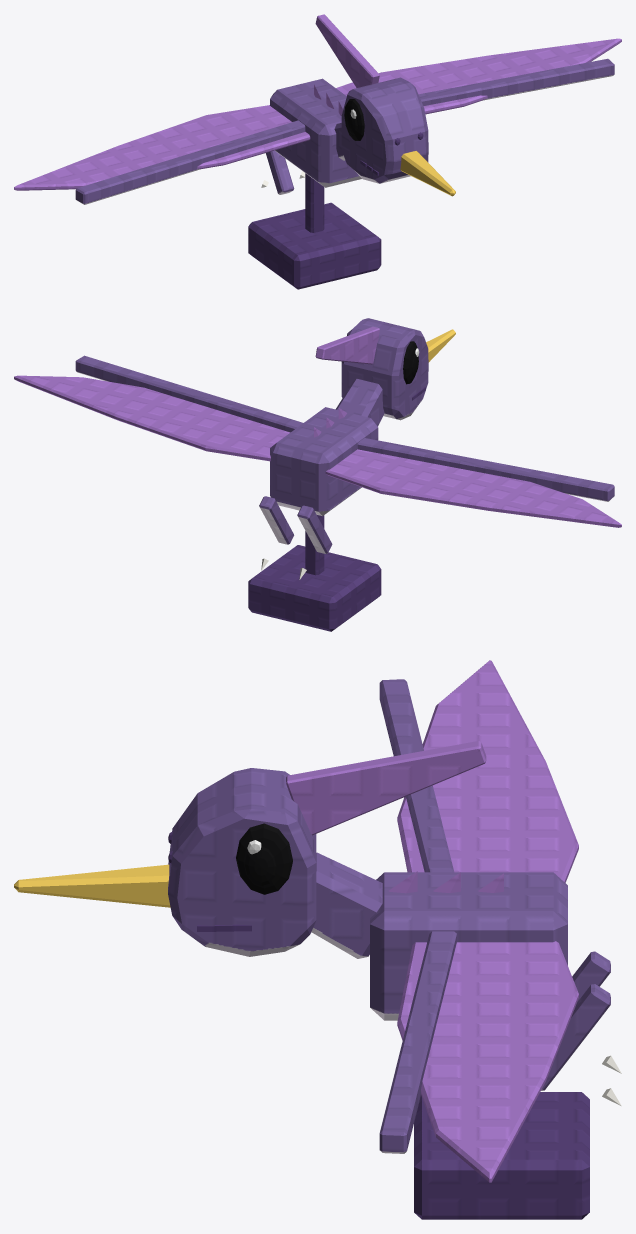
The model's file is bebe_13_Pteranodon.glb.
3 renders of one model, top to bottom at view 1: azimuth 30°, elevation 25°; view 2: azimuth 150°, elevation 25°; view 3: azimuth 270°, elevation 25°, orthographic. The views are drawn at different scales.
Parts seen in each view (by area): view 1: bebe_13_Pteranodon; view 2: bebe_13_Pteranodon; view 3: bebe_13_Pteranodon.
Part boxes in pixels (<box>): bebe_13_Pteranodon: <box>14,14,621,289</box>; bebe_13_Pteranodon: <box>14,318,621,631</box>; bebe_13_Pteranodon: <box>14,660,621,1219</box>.
Bounding box in the file's own units: 5.02 × 2 × 2.49.
1 material, 1 textured.
